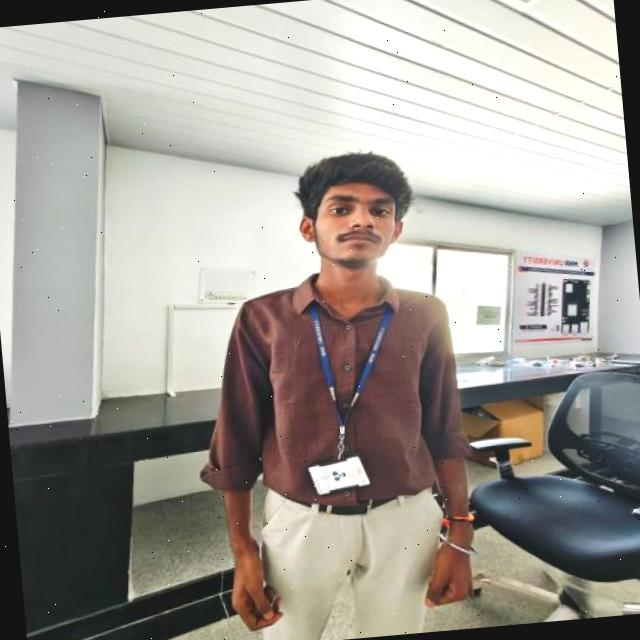Card: (308, 456, 369, 495)
Id strap: (310, 301, 391, 437)
